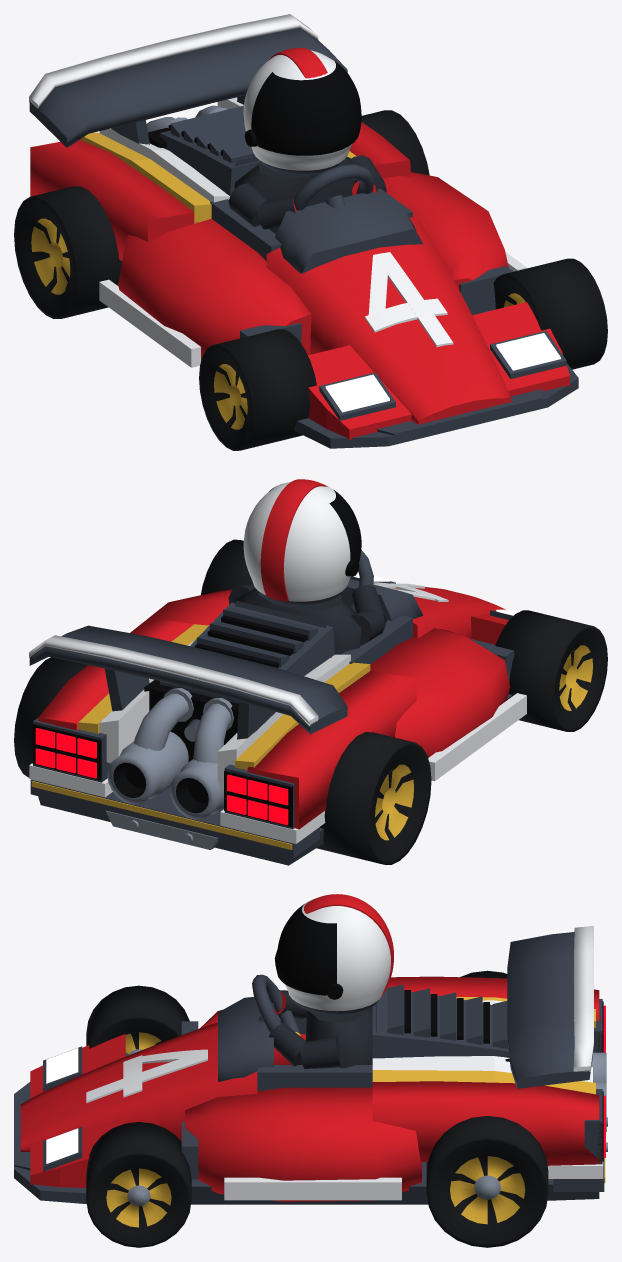
File: kart_1to87.glb
The picture shows the model from 3 angles, top to bottom: view 1: azimuth 30°, elevation 25°; view 2: azimuth 150°, elevation 25°; view 3: azimuth 270°, elevation 25°; orthographic projection. The views are drawn at different scales.
Parts seen in each view (by area): view 1: Kart_Chassis, Wheel_FR, Wheel_RR, Wheel_FL, Wheel_RL; view 2: Kart_Chassis, Wheel_RR, Wheel_FR, Wheel_RL, Wheel_FL; view 3: Kart_Chassis, Wheel_RL, Wheel_FL, Wheel_FR.
Boxes of the visible parts, x1,y1,x2,y2 form: Kart_Chassis: [29, 14, 578, 448]; Wheel_FR: [199, 329, 316, 450]; Wheel_RR: [14, 186, 122, 318]; Wheel_FL: [493, 258, 607, 369]; Wheel_RL: [361, 110, 429, 175]; Kart_Chassis: [29, 479, 526, 865]; Wheel_RR: [316, 732, 431, 864]; Wheel_FR: [495, 610, 607, 731]; Wheel_RL: [14, 657, 87, 777]; Wheel_FL: [201, 539, 252, 594]; Kart_Chassis: [14, 894, 607, 1204]; Wheel_RL: [426, 1116, 548, 1247]; Wheel_FL: [86, 1122, 191, 1247]; Wheel_FR: [86, 985, 189, 1054].
Size of the model in its own units: 0.012 by 0.00894 by 0.0181.
